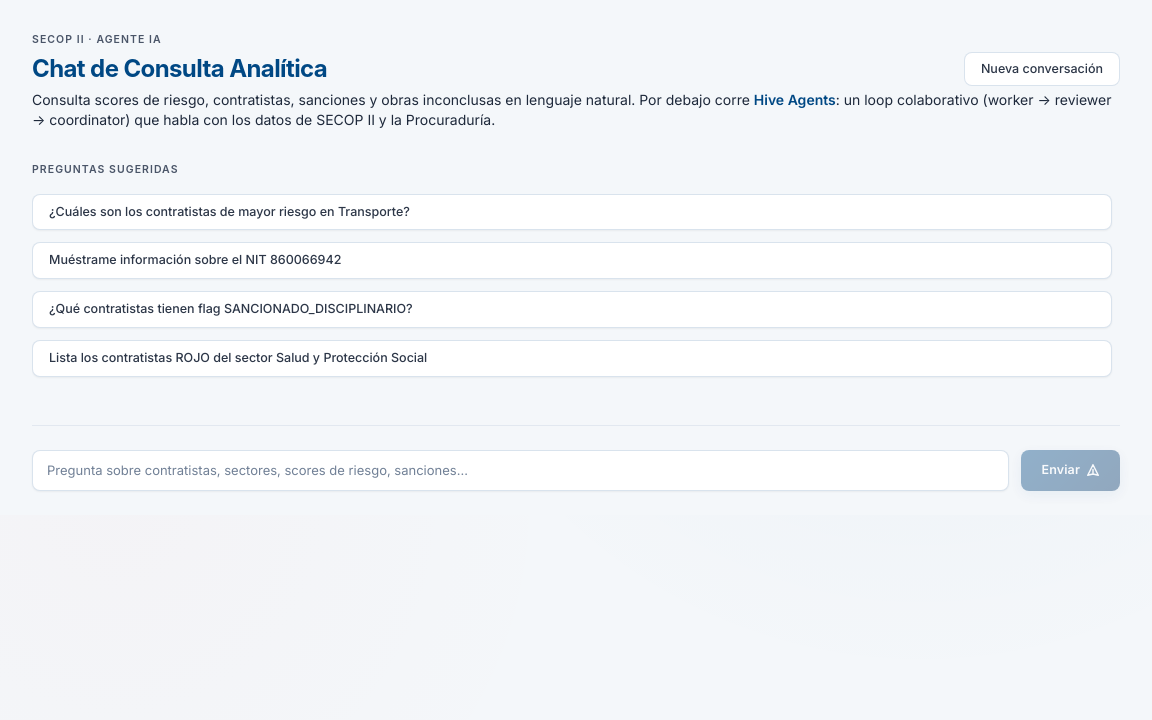
Test: ChatPage: markdown, reasoning y datos › muestra reasoning colapsado y se expande al hacer clic
Replace the text in the field with placeholder "Pregunta sobre contratistas" with "NIT 123" at (521, 470), box [32,450,1010,491]
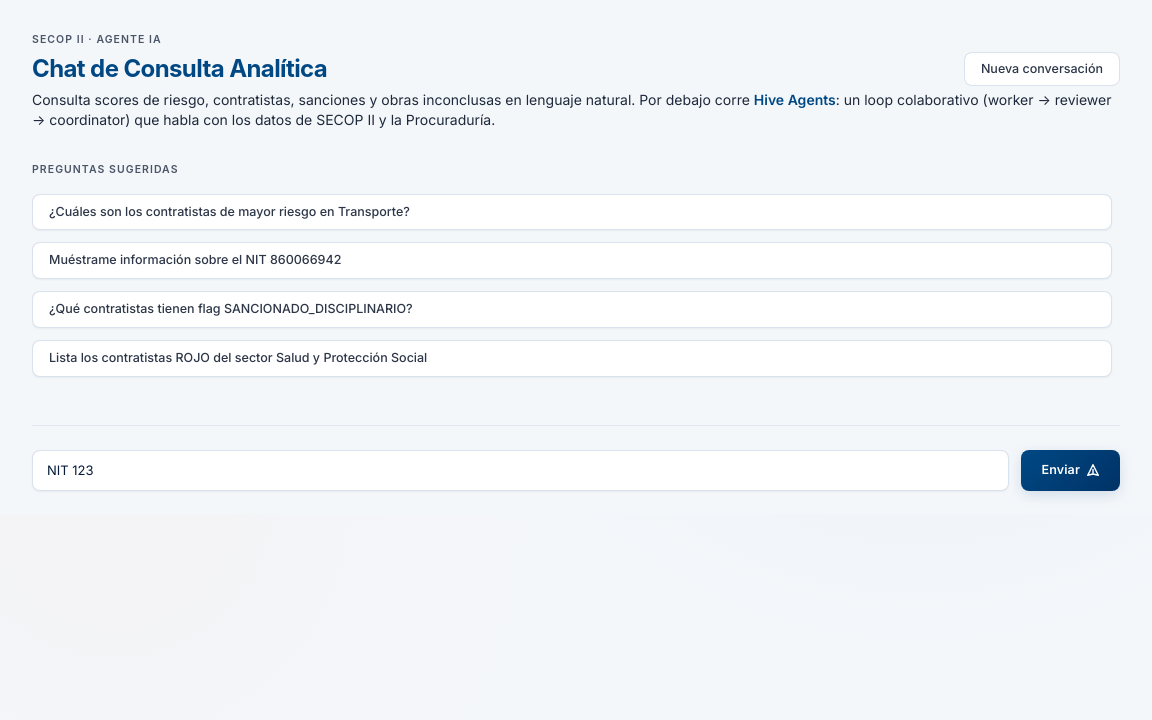
Click the button "Enviar" at (1071, 470), box [1022,450,1120,491]
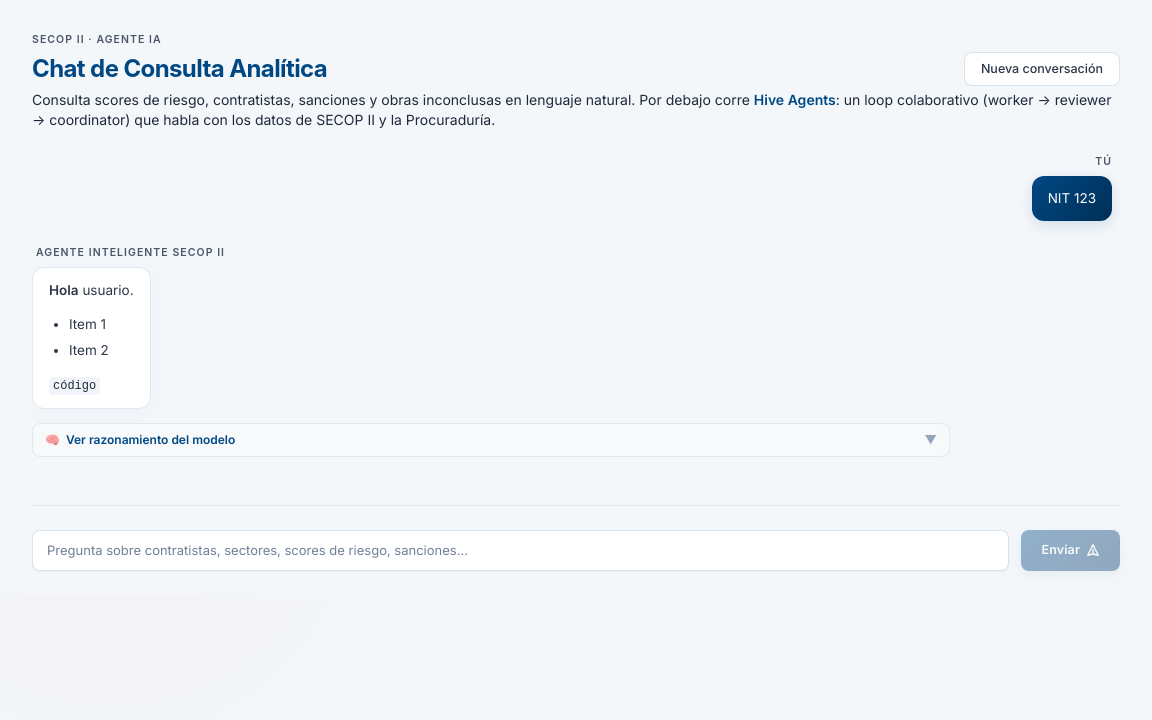
Expected: the text "Pensamiento final" is not shown
Expected: the text "Ver razonamiento del modelo" is shown
Click the text "Ver razonamiento del modelo" at (151, 440), box [66,432,235,448]
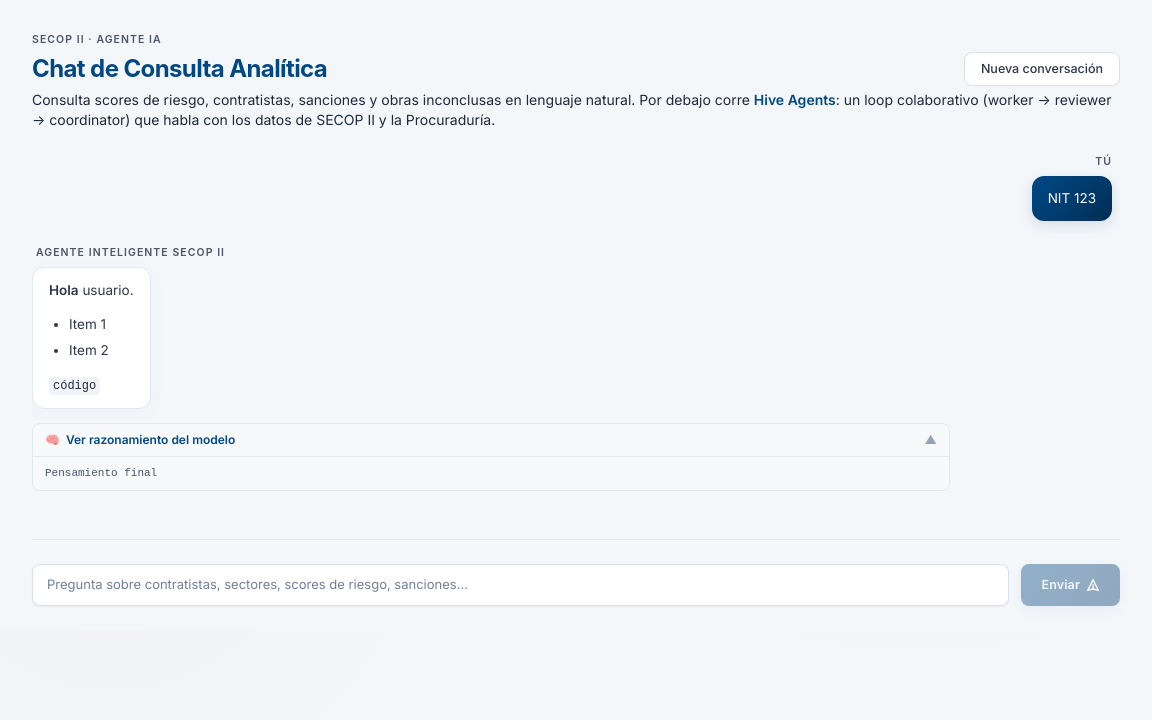
Expected: the text "Pensamiento final" is shown, [45,467,157,479]
